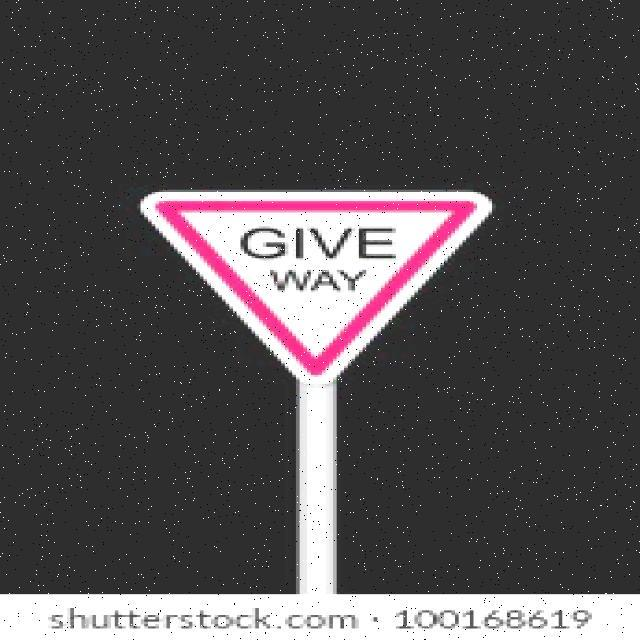Traffic sign: (130, 183, 503, 390)
